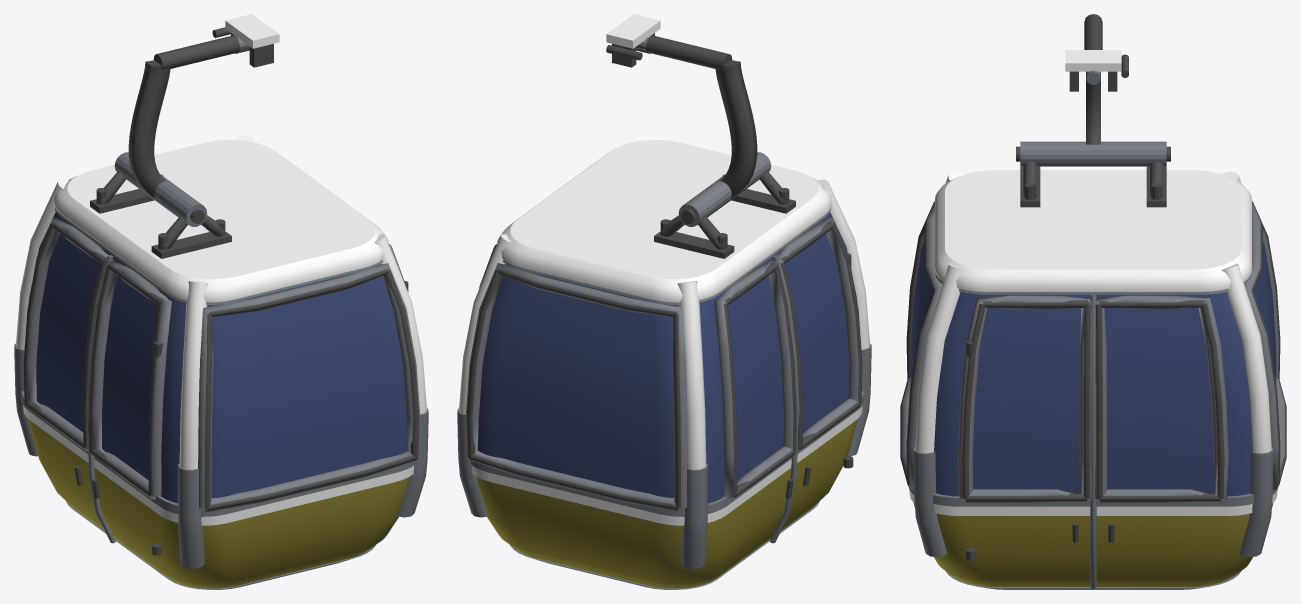
File: cabin.fbx
The picture shows the model from 3 angles, left to right: view 1: azimuth 30°, elevation 25°; view 2: azimuth 150°, elevation 25°; view 3: azimuth 270°, elevation 25°; orthographic projection. The views are drawn at different scales.
Visible parts, largest first — view 1: p601/cabin; view 2: p601/cabin; view 3: p601/cabin.
Part boxes in pixels (x1,y1,x2,y2): p601/cabin: (14,14,428,589); p601/cabin: (457,14,871,589); p601/cabin: (900,14,1286,589).
Bounding box in the file's own units: 1.96 × 3.34 × 2.32.
